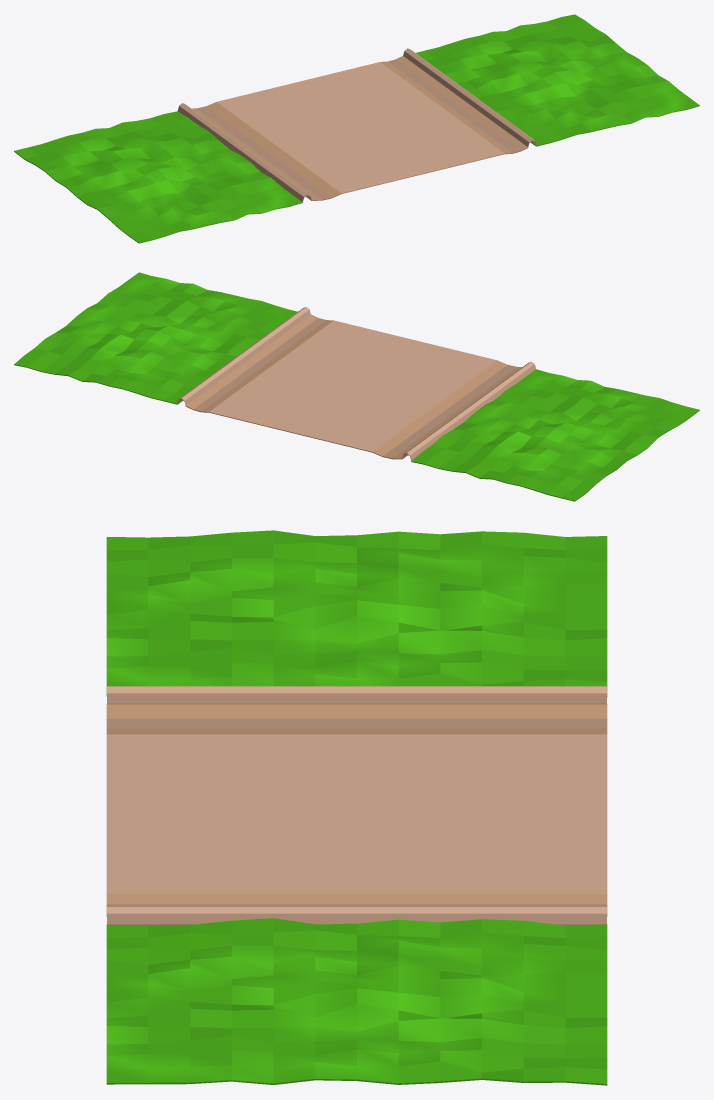
Rendered from AntonioAraujo_716892 (1).fbx.
3 views of the same model, one above another, from view 1: azimuth 30°, elevation 25°; view 2: azimuth 150°, elevation 25°; view 3: azimuth 270°, elevation 25° (orthographic). The views are drawn at different scales.
Visible parts, largest first — view 1: Calçada; view 2: Calçada; view 3: Calçada.
Boxes of the visible parts, <box> form: Calçada: <box>14,14,699,243</box>; Calçada: <box>14,272,699,501</box>; Calçada: <box>106,530,607,1085</box>.
Size of the model in its own units: 3375 by 61.71 by 1304.
